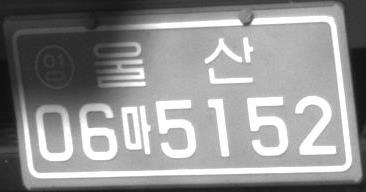0: (34, 103, 74, 162)
2: (294, 94, 337, 156), (201, 98, 239, 158)
5: (154, 98, 197, 159), (245, 95, 288, 156)
6: (78, 102, 118, 162)
마: (119, 104, 152, 155)
영: (34, 43, 76, 90)
울산_D: (92, 35, 253, 89)
